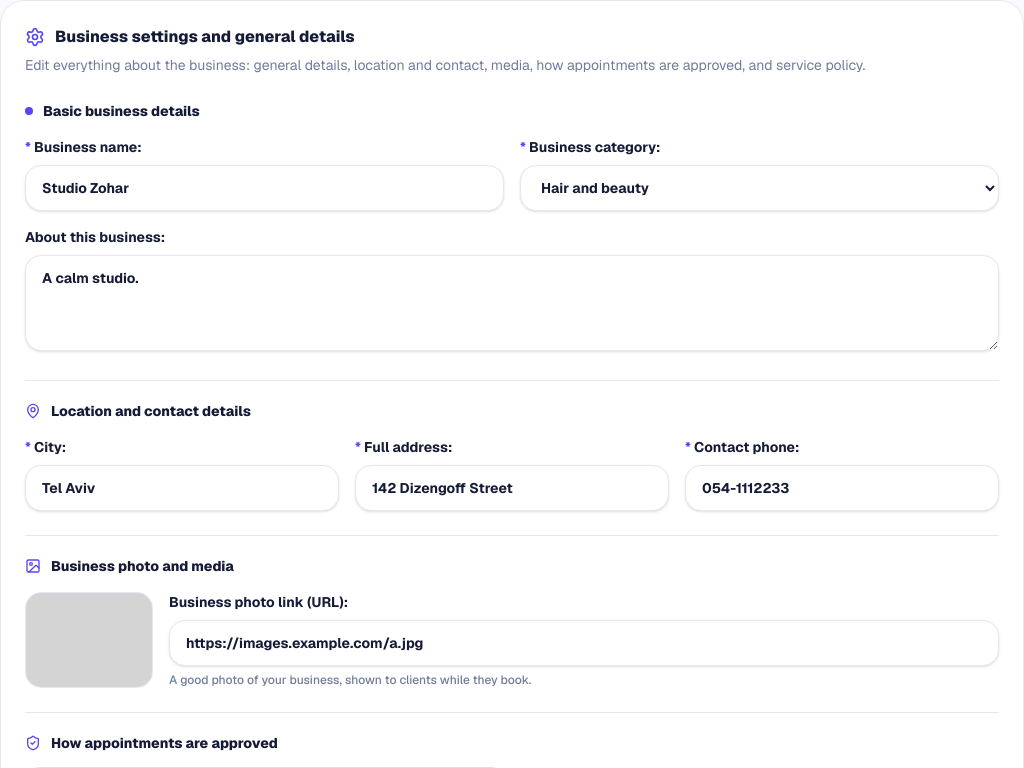
Scenario: business settings screen › names a share link for what it is, rather than showing an empty frame
The width and height of the screenshot is (1024, 768).
Replace the text in the field showing "https://images.example.com/a.jpg" with "https://share.google/ft2Zhxfupzcms665m": (584, 643) [169,620,999,666]
(page scrolled)
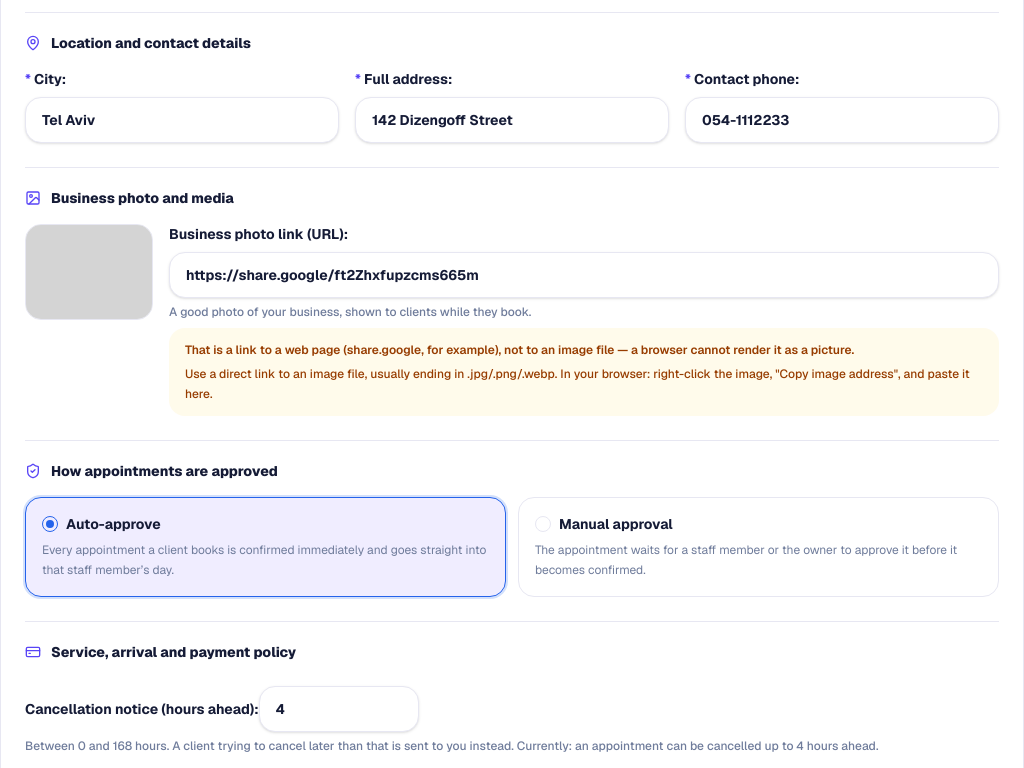
Check: the text "not to an image file" is shown, box [185,342,854,358]
Check: the text "Copy image address" is shown, box [185,366,970,402]
